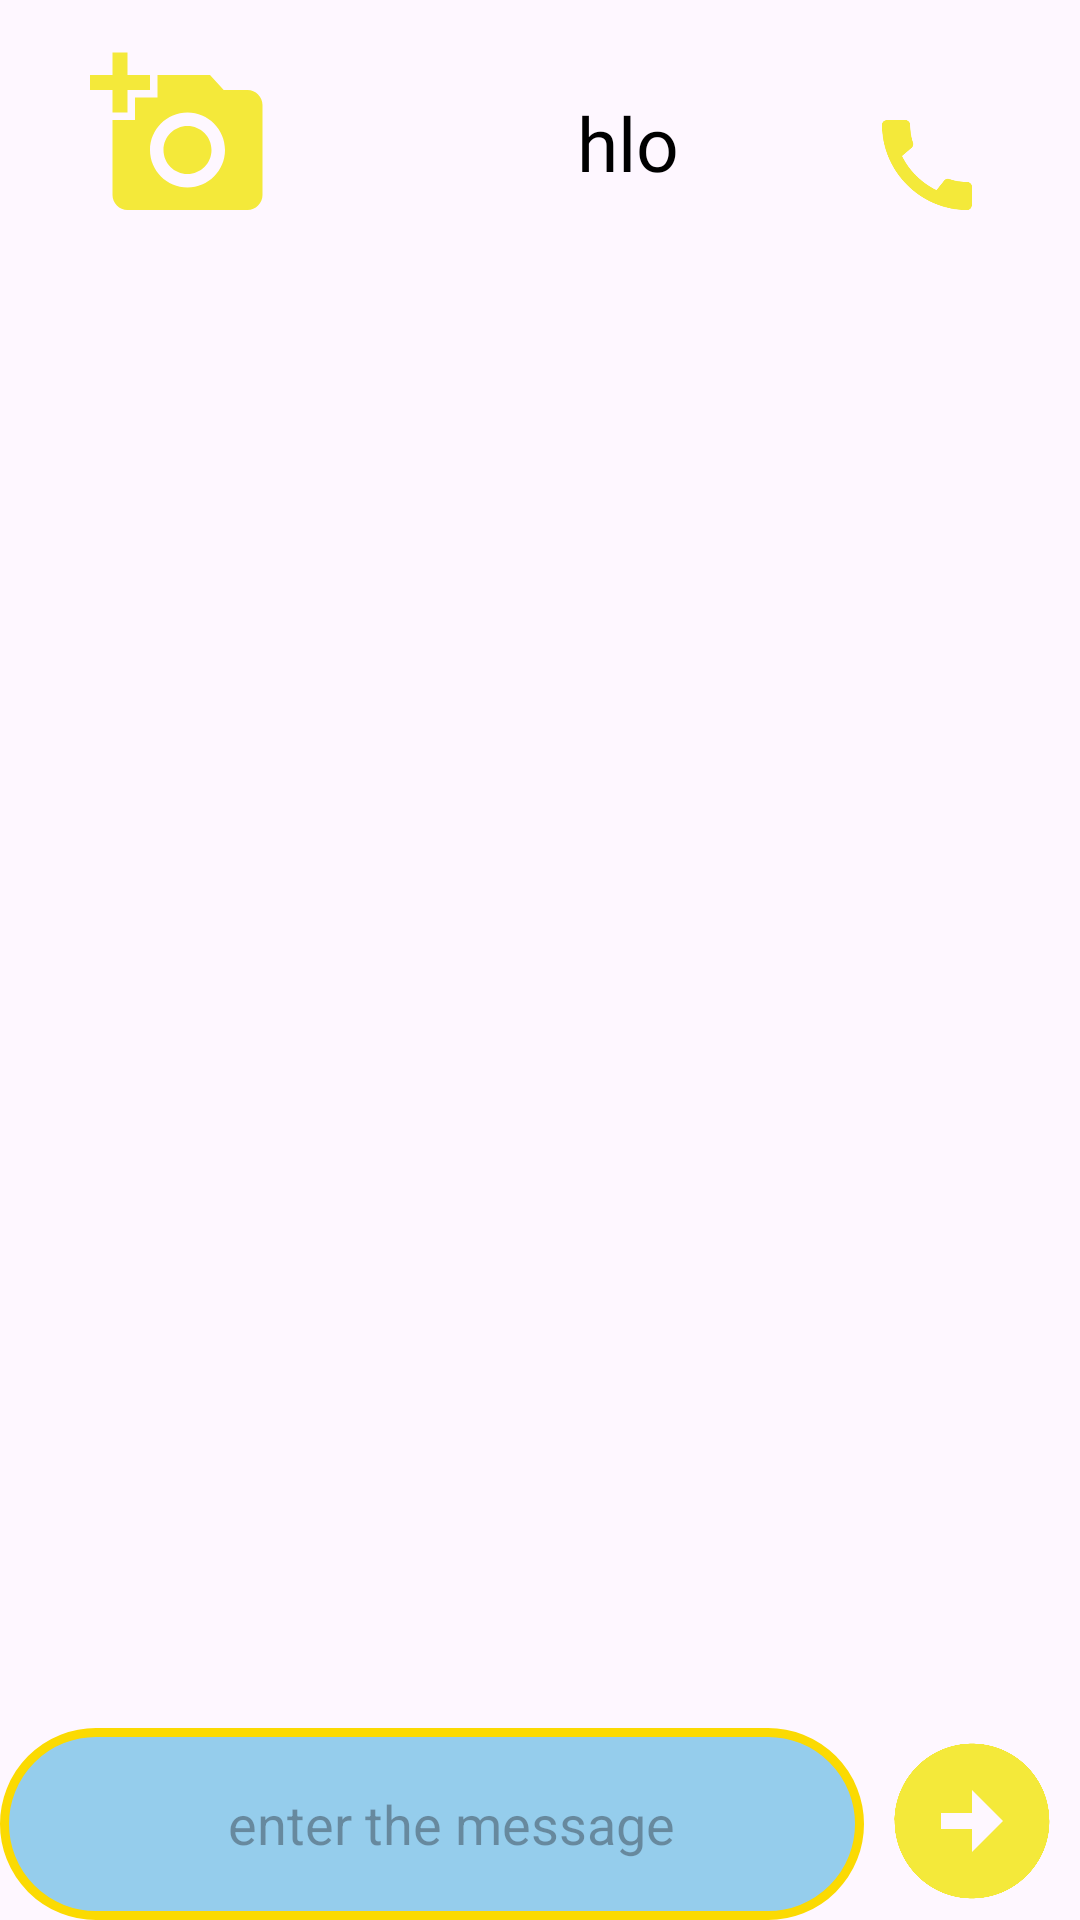

Named icons in this screenshot (1080*1920) and their centers, (x=x, y=y):
phonee: (x=927, y=165)
photo: (x=176, y=131)
